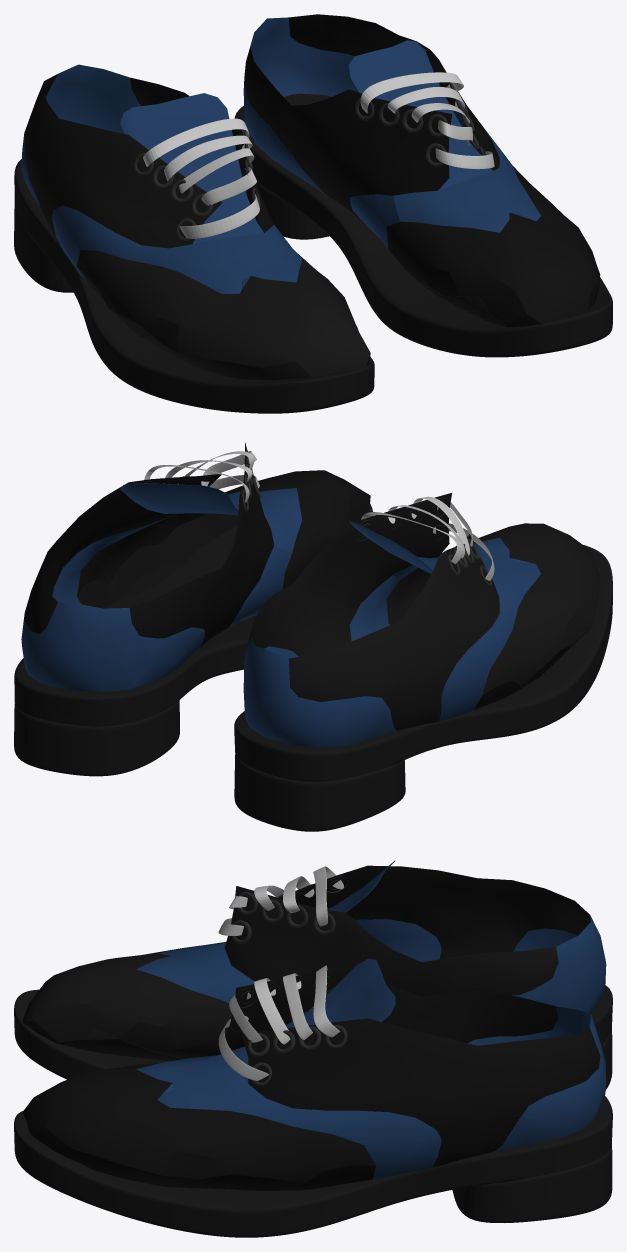
File: za2pri2 1.fbx
3 views of the same model, one above another, from view 1: azimuth 30°, elevation 25°; view 2: azimuth 150°, elevation 25°; view 3: azimuth 270°, elevation 25° (orthographic).
Parts seen in each view (by area): view 1: zapato2.001, zapato2, Plane, Plane.011, Plane.007, Plane.004, Plane.006, Plane.008, Plane.003, Plane.010, Plane.009, Plane.005; view 2: zapato2.001, zapato2, Plane.011, Plane, Plane.010; view 3: zapato2, zapato2.001, Plane, Plane.011, Plane.001, Plane.003, Plane.004, Plane.007, Plane.005, Plane.008, Plane.002.
Boxes of the visible parts, x1,y1,x2,y2 form: zapato2.001: (21, 64, 370, 379); zapato2: (243, 14, 600, 327); Plane: (234, 93, 612, 357); Plane.011: (14, 159, 374, 413); Plane.007: (143, 118, 249, 166); Plane.004: (360, 72, 463, 113); Plane.006: (180, 194, 259, 238); Plane.008: (164, 135, 252, 181); Plane.003: (387, 87, 464, 113); Plane.010: (179, 148, 254, 193); Plane.009: (201, 167, 256, 206); Plane.005: (435, 148, 494, 169); zapato2.001: (243, 493, 600, 747); zapato2: (21, 442, 370, 691); Plane.011: (234, 545, 612, 831); Plane: (14, 503, 373, 776); Plane.010: (411, 496, 469, 555); zapato2: (23, 958, 606, 1190); zapato2.001: (23, 860, 606, 1060); Plane: (14, 1096, 612, 1237); Plane.011: (14, 985, 612, 1089); Plane.001: (254, 978, 290, 1044); Plane.003: (283, 973, 312, 1040); Plane.004: (313, 965, 340, 1037); Plane.007: (313, 866, 343, 926); Plane.005: (218, 1016, 268, 1080); Plane.008: (283, 876, 314, 913); Plane.002: (229, 992, 262, 1042).
Bounding box in the file's own units: 390 × 176 × 447.
